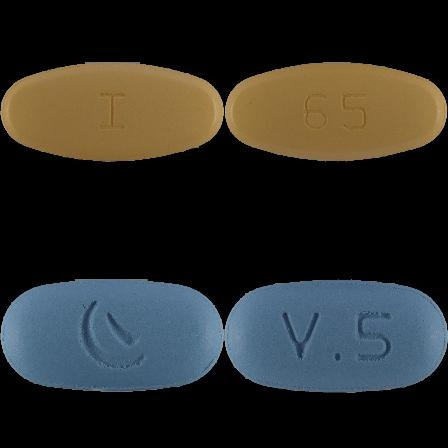51655-951: (0, 0, 224, 224)
